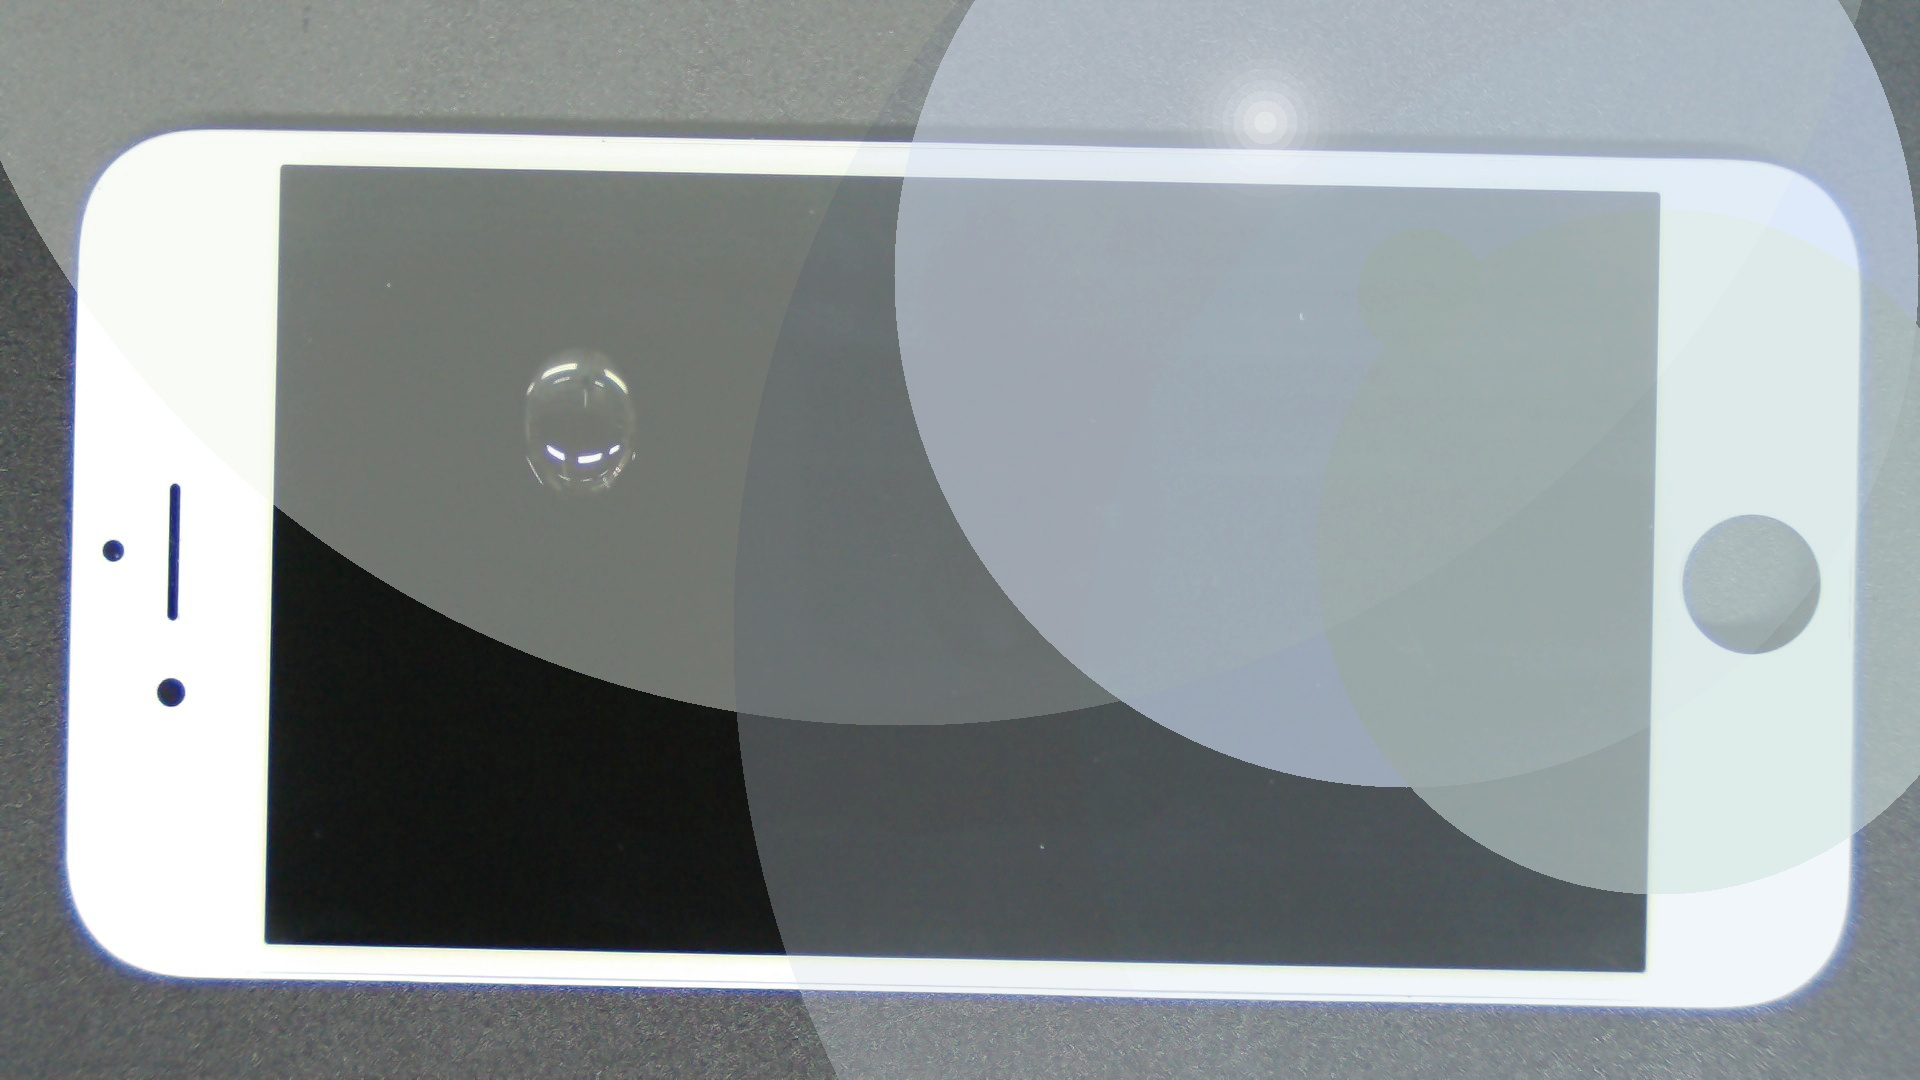oil: (289, 173, 865, 521)
